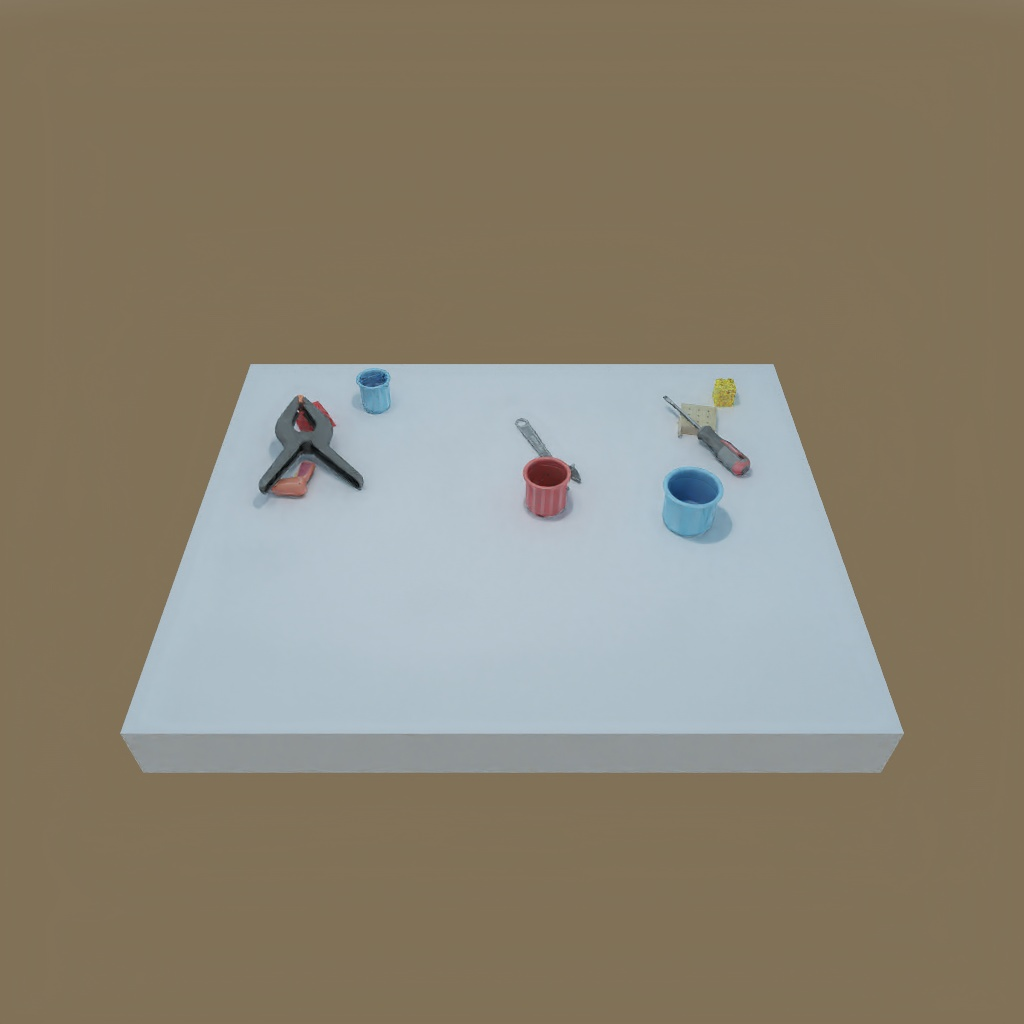nine_hole_peg_test: (675, 401, 723, 440)
